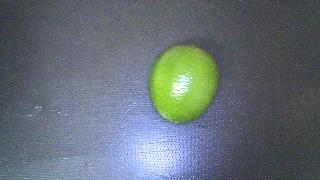EXPORTACION: (149, 45, 219, 123)
